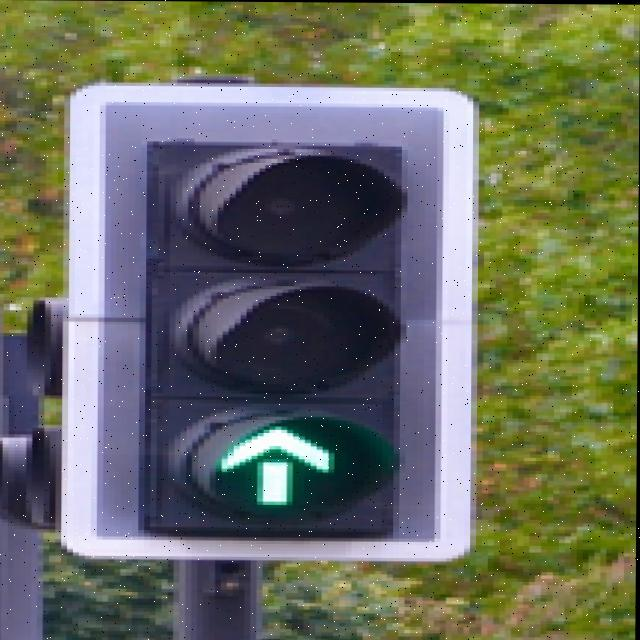light_traffic: (24, 63, 529, 598)
